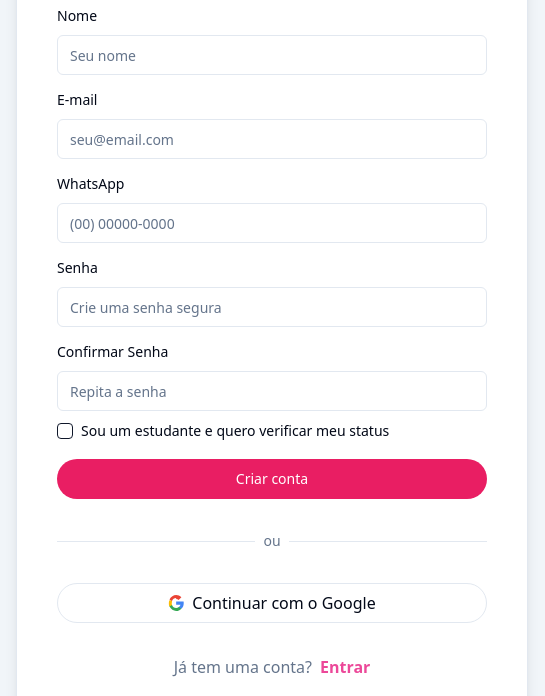
it: CreatorSignUp › Error Handling › handles form submission errors gracefully
The width and height of the screenshot is (545, 696).
(page scrolled)
Note: Try to submit form with invalid data
Click the button "Criar conta".
click(272, 479)  # box [57,459,487,499]
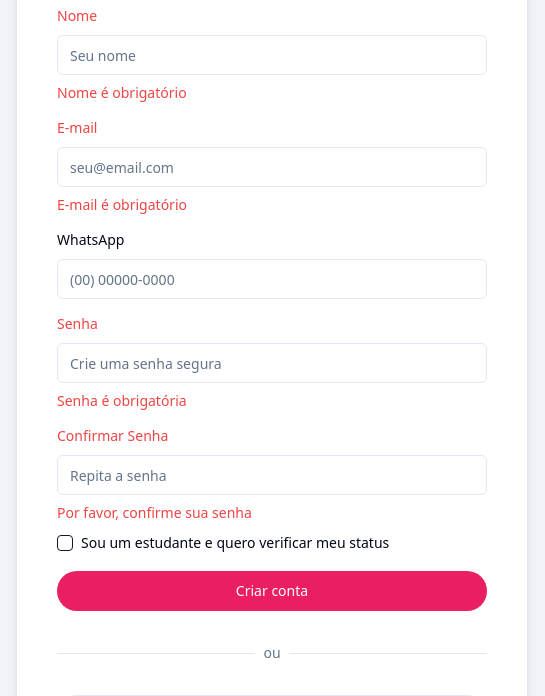
Result: the text "Nome é obrigatório" is shown at [57,83,187,102]
